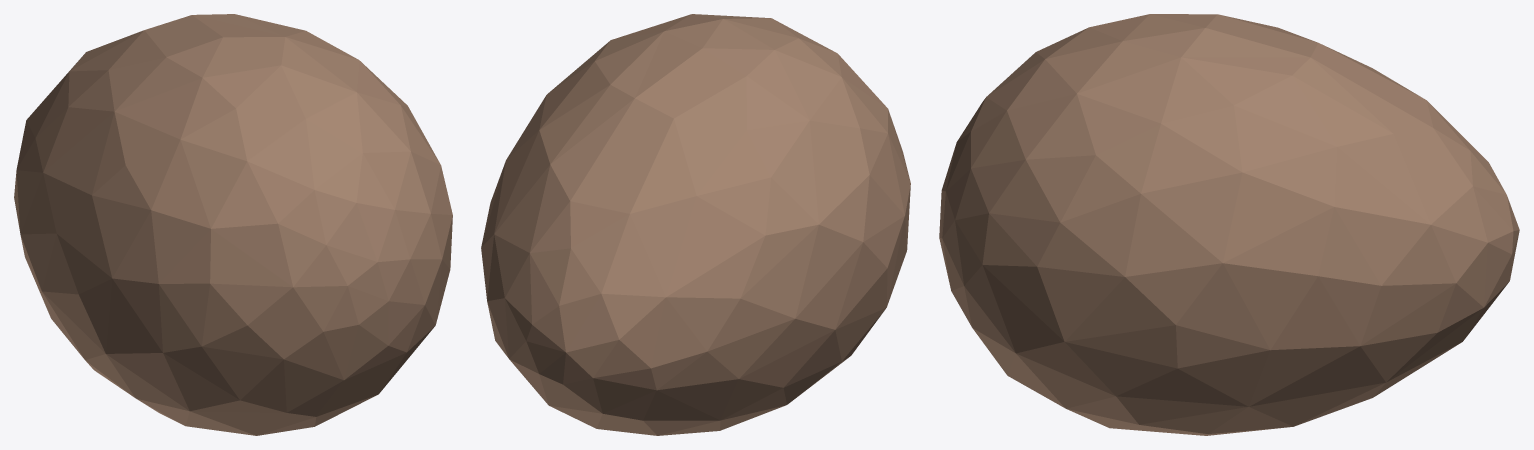
Rendered from food_1_egg.fbx.
3 renders of one model, left to right at view 1: azimuth 30°, elevation 25°; view 2: azimuth 150°, elevation 25°; view 3: azimuth 270°, elevation 25°, orthographic. The views are drawn at different scales.
Parts seen in each view (by area): view 1: food_egg; view 2: food_egg; view 3: food_egg.
Boxes of the visible parts, bbox=[...] form: food_egg: bbox=[14, 14, 452, 435]; food_egg: bbox=[481, 14, 910, 435]; food_egg: bbox=[939, 14, 1519, 435].
Bounding box in the file's own units: 30.82 × 31.26 × 42.36.
